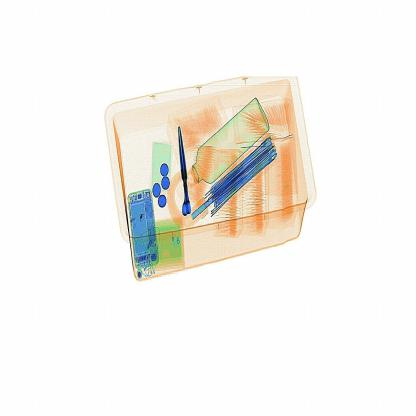gun: (168, 120, 200, 228)
